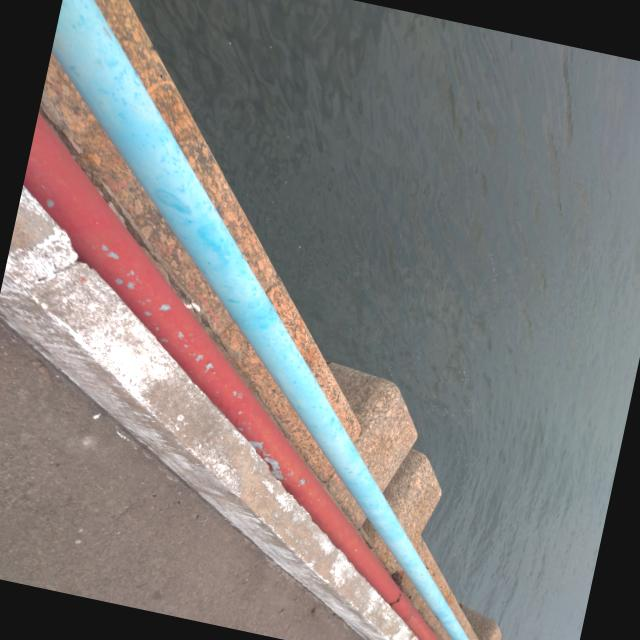gas: (52, 0, 469, 640), (22, 124, 439, 640)
